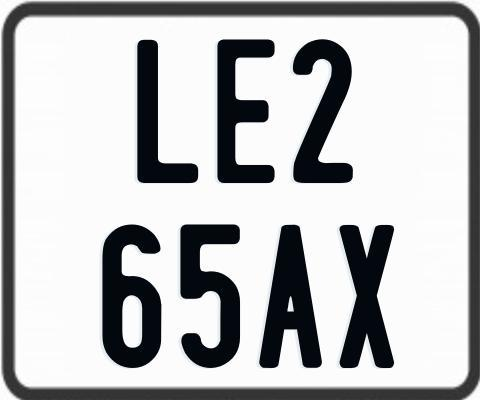2: (291, 36, 351, 182)
5: (179, 223, 243, 368)
6: (100, 223, 163, 368)
A: (256, 222, 323, 367)
E: (214, 37, 278, 185)
L: (137, 39, 200, 188)
X: (337, 222, 397, 367)
